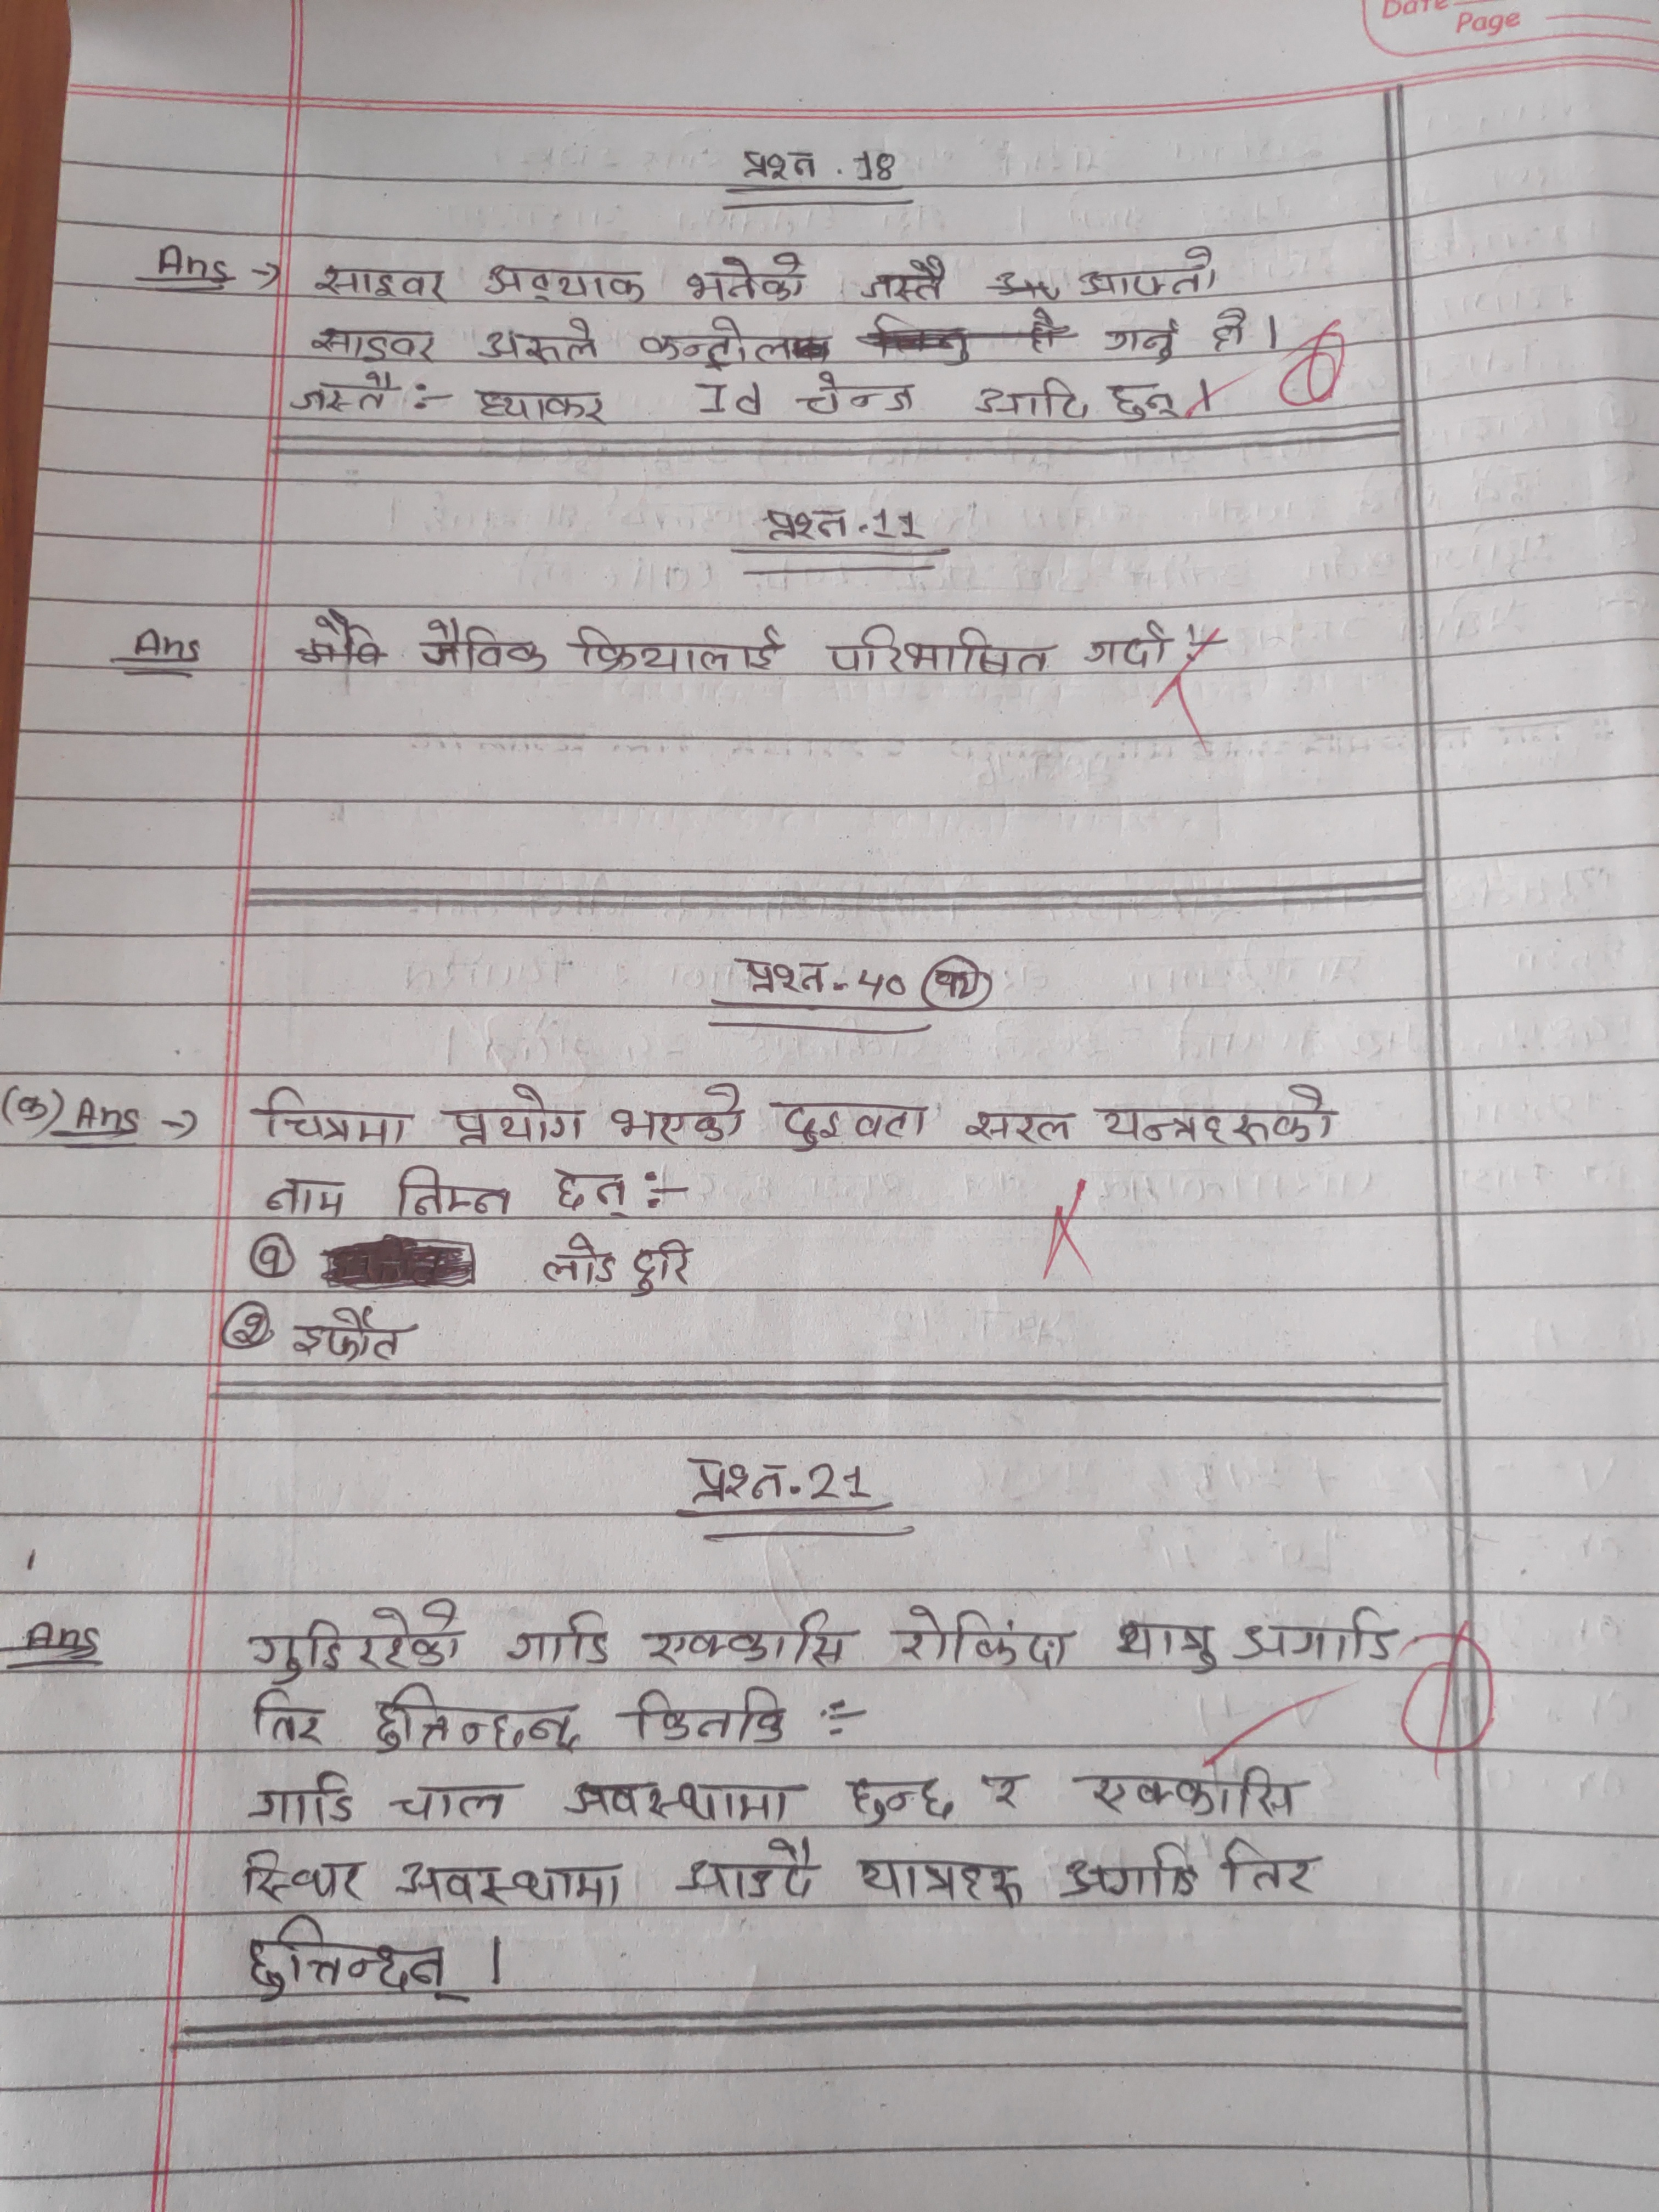text: (237, 1914, 474, 2013), (237, 1594, 469, 1684), (817, 615, 1061, 686), (1091, 1080, 1340, 1150), (366, 1683, 591, 1757), (551, 1771, 798, 1834), (641, 1602, 861, 1672), (884, 1599, 1080, 1676), (1068, 1768, 1321, 1827), (568, 615, 786, 676), (1236, 1590, 1398, 1672), (390, 1855, 627, 1911), (624, 1677, 793, 1750), (256, 1078, 415, 1151), (845, 1844, 1033, 1905), (674, 1829, 817, 1905), (606, 1080, 751, 1151), (765, 1092, 939, 1151), (1053, 1841, 1208, 1907), (443, 1080, 592, 1148), (638, 308, 798, 368), (413, 610, 551, 678), (235, 1846, 373, 1914), (282, 1299, 408, 1372), (1072, 246, 1225, 305), (481, 254, 648, 308), (1103, 1609, 1222, 1684), (505, 1599, 617, 1676), (380, 1775, 518, 1831), (681, 246, 809, 305), (467, 383, 613, 434), (972, 371, 1100, 428), (392, 1163, 519, 1221), (242, 1771, 361, 1832), (835, 1768, 953, 1829), (477, 312, 610, 366), (788, 368, 920, 421), (1218, 1838, 1324, 1904), (315, 258, 448, 310), (305, 319, 437, 369), (678, 1449, 793, 1505), (246, 1688, 338, 1752), (291, 369, 406, 420), (958, 1103, 1077, 1151), (258, 1165, 356, 1219), (751, 502, 856, 550), (545, 1163, 633, 1221), (1079, 622, 1176, 672), (1103, 373, 1190, 428), (859, 260, 962, 307), (737, 954, 835, 1001), (540, 1231, 620, 1287), (624, 1235, 694, 1298), (976, 1761, 1039, 1829), (1103, 317, 1187, 368), (1199, 298, 1260, 359), (732, 145, 826, 183)
